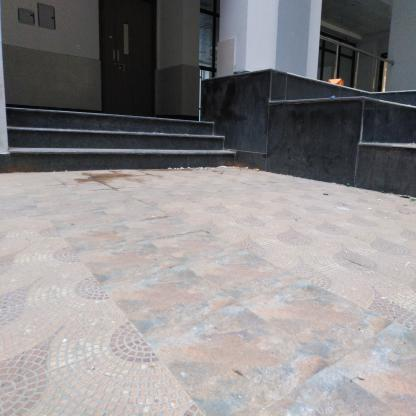stairs: (16, 119, 215, 173)
